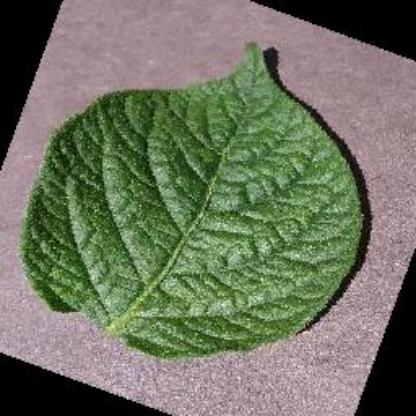Healthy-plant: (20, 21, 376, 352)
